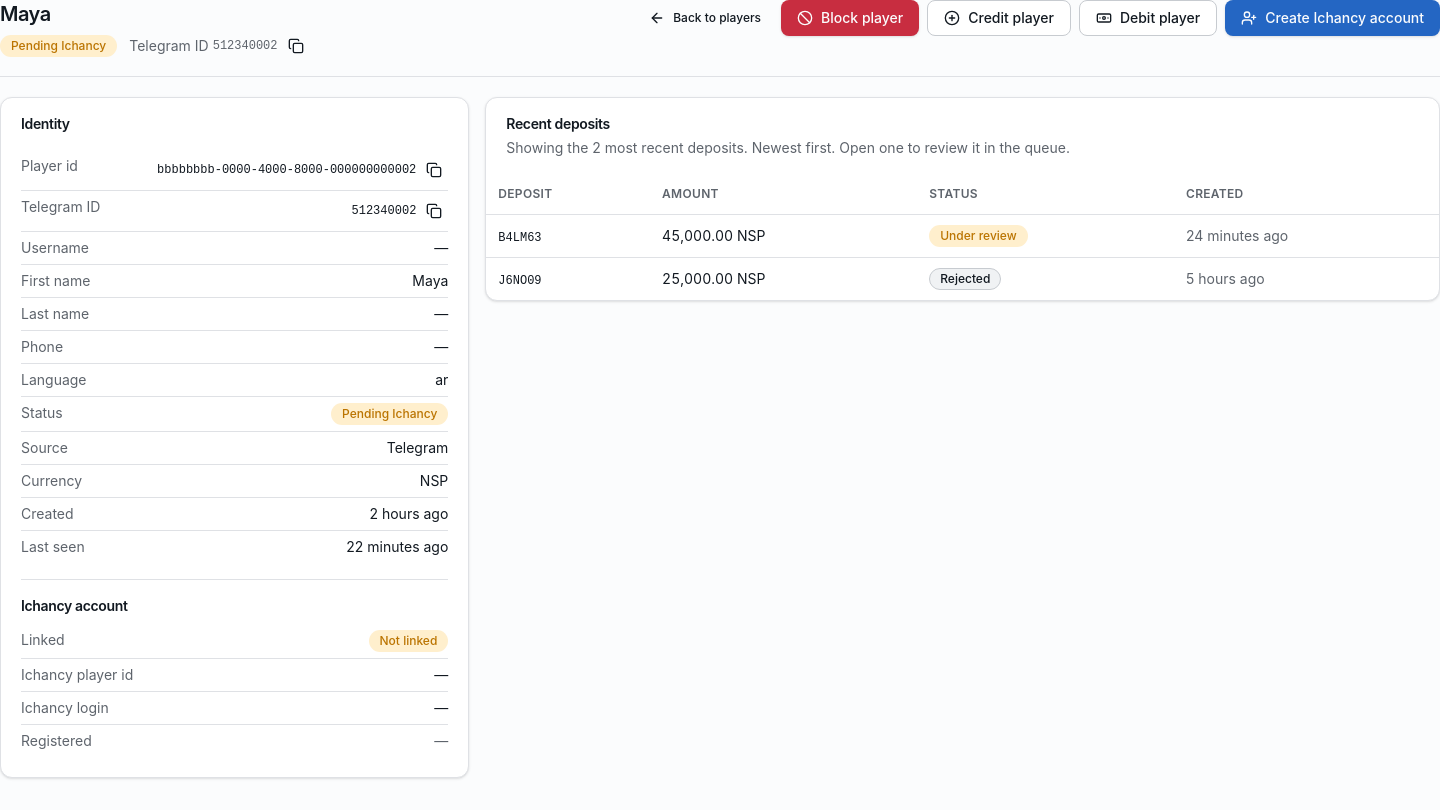
Scenario: PlayerDetailPage: taking money back out › explains itself instead of offering a form when there is no Ichancy account
The width and height of the screenshot is (1440, 810).
Click the button "Debit player" at (1148, 18), box 1079,0 -> 1217,36
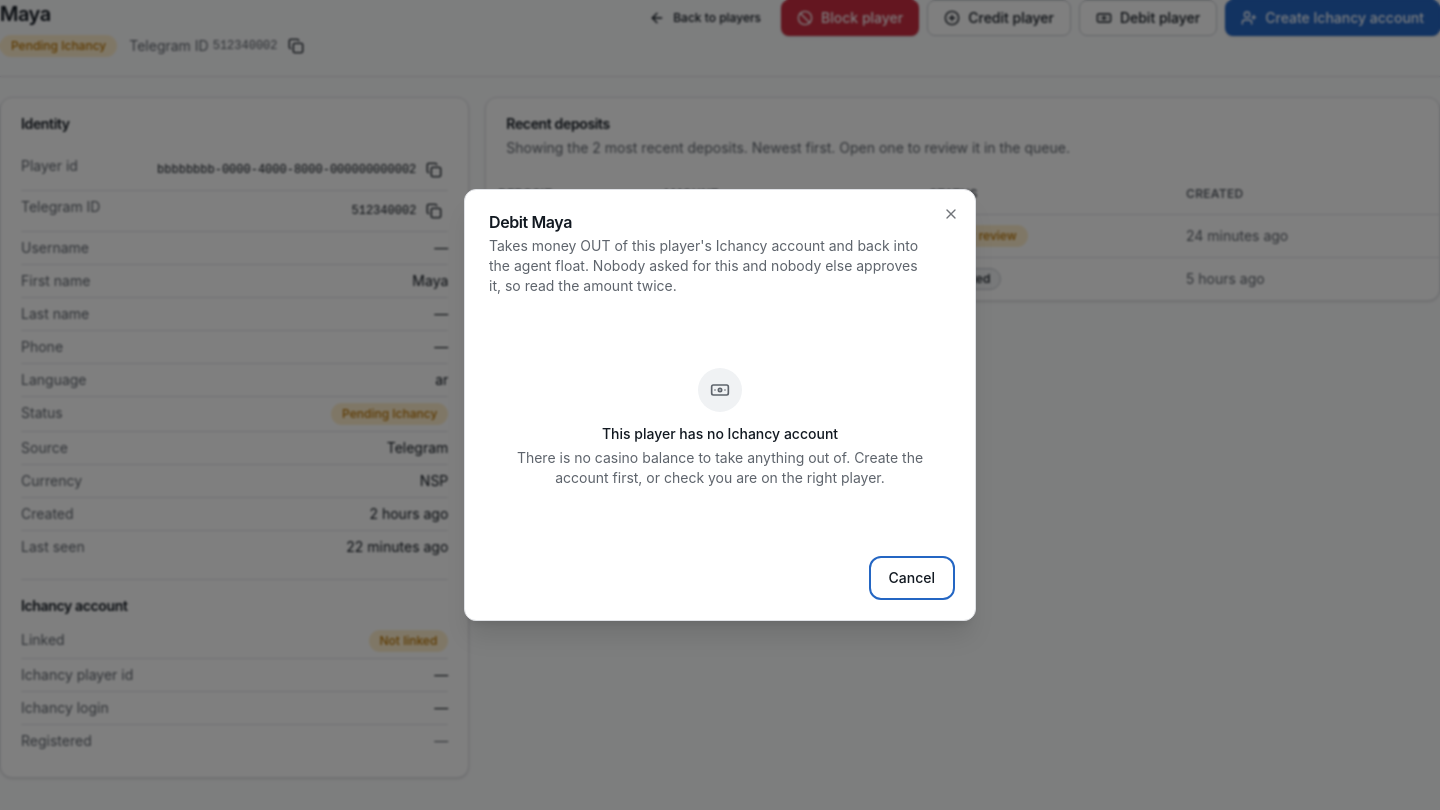
expect the text "This player has no Ichancy account" is shown: met, box 602,425 -> 838,442
